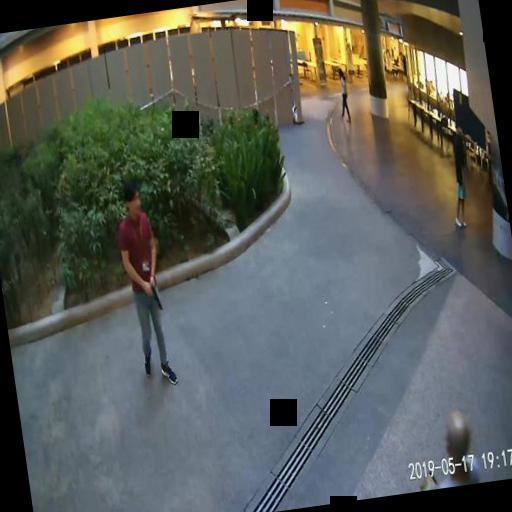Handgun: (145, 284, 160, 308)
